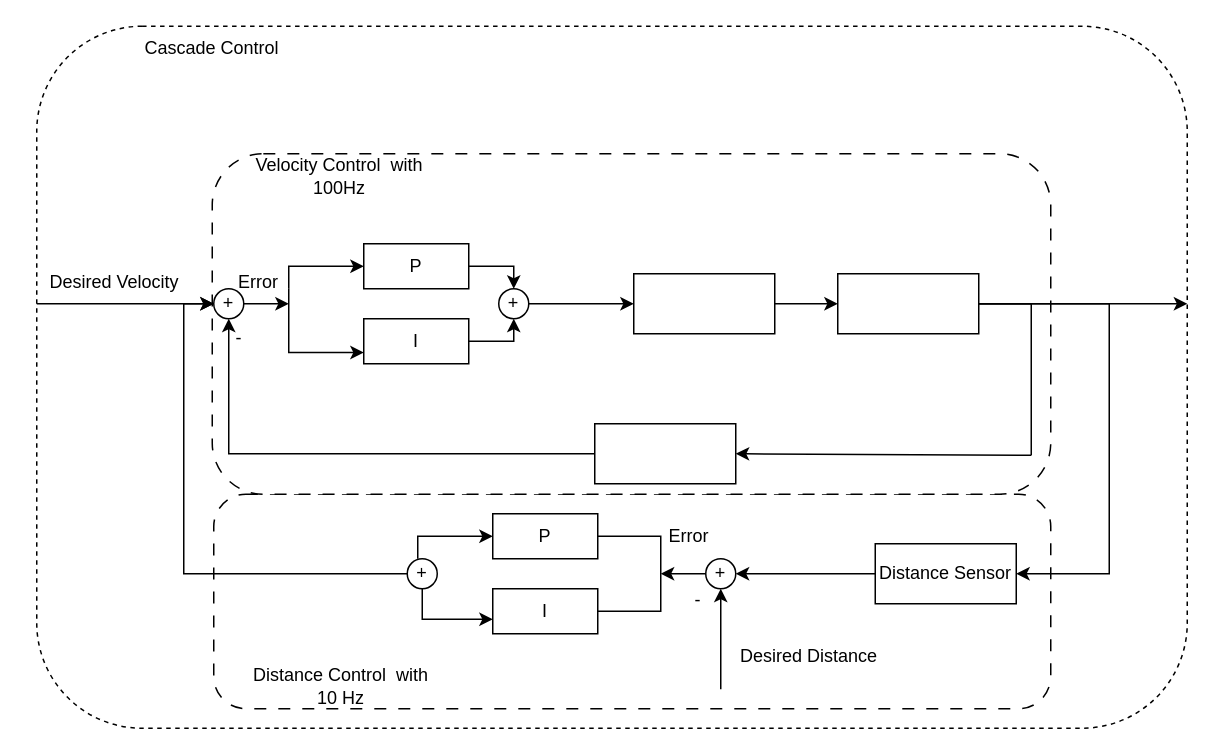
Image size: 1226x755. Some labels were removed from this diagram. The centre of each missing label's shape, as x and y in pixels:
"Encoder" belongs at point 664,453.
"Motor" belongs at point 907,303.
"PWM" belongs at point 703,303.
